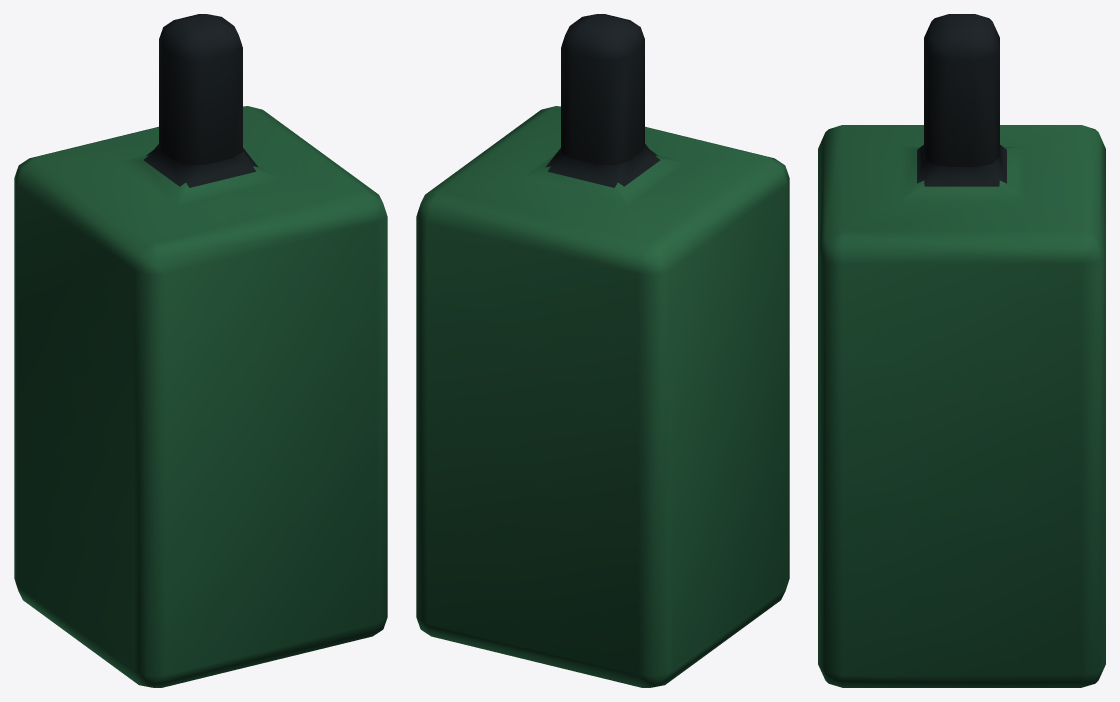
The model's file is jager.fbx.
3 renders of one model, left to right at view 1: azimuth 30°, elevation 25°; view 2: azimuth 150°, elevation 25°; view 3: azimuth 270°, elevation 25°, orthographic. The views are drawn at different scales.
Parts seen in each view (by area): view 1: jager; view 2: jager; view 3: jager.
Part boxes in pixels (bbox=[...]): jager: bbox=[14, 14, 387, 687]; jager: bbox=[416, 14, 789, 687]; jager: bbox=[818, 14, 1105, 687].
Size of the model in its own units: 0.0723 by 0.1637 by 0.0696.
1 material, 1 textured.
